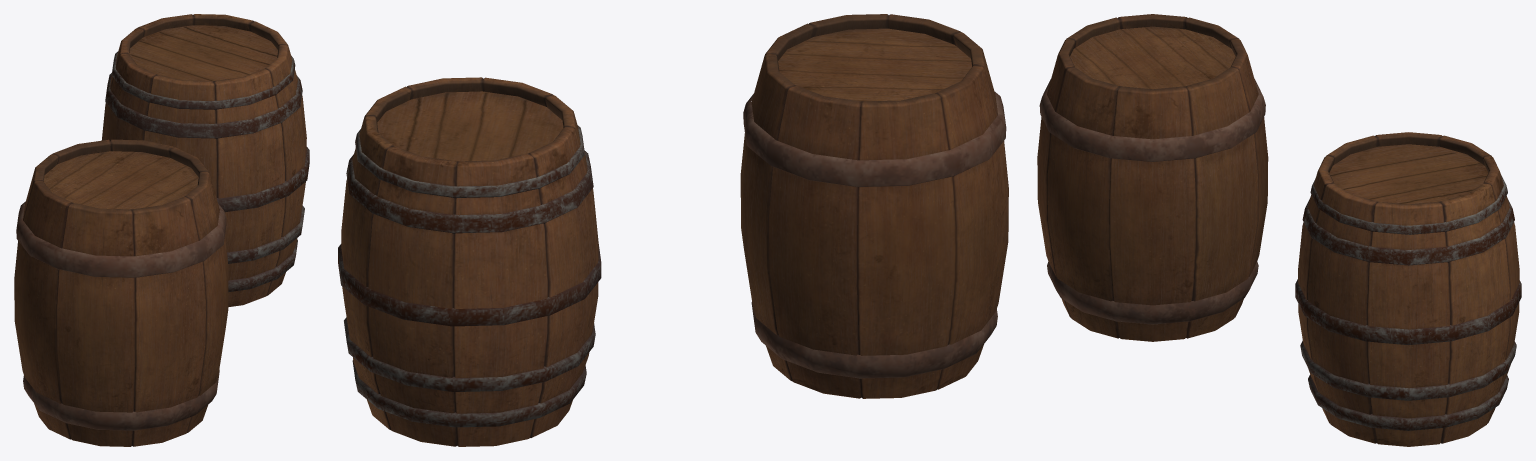
File: sm_barrel_final.gltf
3 views of the same model, side by side, from view 1: azimuth 30°, elevation 25°; view 2: azimuth 150°, elevation 25°; view 3: azimuth 270°, elevation 25° (orthographic). The views are drawn at different scales.
Parts seen in each view (by area): view 1: polySurface424, polySurface430, polySurface444, polySurface423, polySurface432, polySurface448, polySurface376, polySurface426, polySurface445, polySurface442, polySurface422, polySurface406 (+13 smaller); view 2: polySurface425, polySurface428, polySurface449, polySurface443, polySurface423, polySurface432, polySurface448, polySurface441, polySurface376, polySurface427, polySurface446, polySurface422 (+13 smaller); view 3: polySurface429, polySurface450, polySurface426, polySurface427, polySurface446, polySurface442, polySurface432, polySurface448, polySurface376, polySurface422, polySurface403, polySurface406 (+13 smaller).
Boxes of the visible parts, <box> form: polySurface424: <box>56,202,135,446</box>; polySurface430: <box>132,196,205,446</box>; polySurface444: <box>214,68,285,307</box>; polySurface423: <box>14,180,72,439</box>; polySurface432: <box>43,151,198,209</box>; polySurface448: <box>129,25,277,80</box>; polySurface376: <box>16,201,226,277</box>; polySurface426: <box>185,171,228,432</box>; polySurface445: <box>144,74,217,197</box>; polySurface442: <box>265,44,306,295</box>; polySurface422: <box>23,369,219,430</box>; polySurface406: <box>105,73,302,139</box>; polySurface425: <box>857,93,955,398</box>; polySurface428: <box>769,85,861,398</box>; polySurface449: <box>453,153,547,446</box>; polySurface443: <box>368,145,457,446</box>; polySurface423: <box>936,65,1008,389</box>; polySurface432: <box>778,28,971,101</box>; polySurface448: <box>377,91,563,161</box>; polySurface441: <box>529,126,598,437</box>; polySurface376: <box>743,91,1006,186</box>; polySurface427: <box>740,54,794,381</box>; polySurface446: <box>341,115,393,430</box>; polySurface422: <box>751,302,997,378</box>; polySurface429: <box>1109,86,1196,341</box>; polySurface450: <box>1367,201,1450,446</box>; polySurface426: <box>1047,67,1119,338</box>; polySurface427: <box>1185,67,1257,338</box>; polySurface446: <box>1440,183,1509,443</box>; polySurface442: <box>1307,183,1377,443</box>; polySurface432: <box>1070,26,1235,89</box>; polySurface448: <box>1329,144,1488,204</box>; polySurface376: <box>1039,79,1265,161</box>; polySurface422: <box>1047,261,1258,324</box>; polySurface403: <box>1295,279,1521,345</box>; polySurface406: <box>1302,198,1514,265</box>.
Size of the model in its own units: 130 by 75.75 by 131.
1 material, 1 textured.
